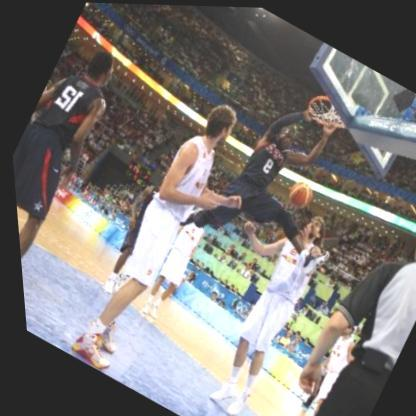basketball: (278, 175, 314, 210)
